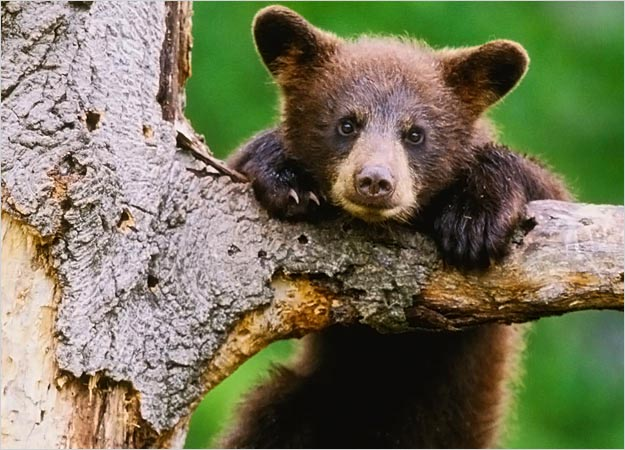bear: (248, 3, 534, 229)
